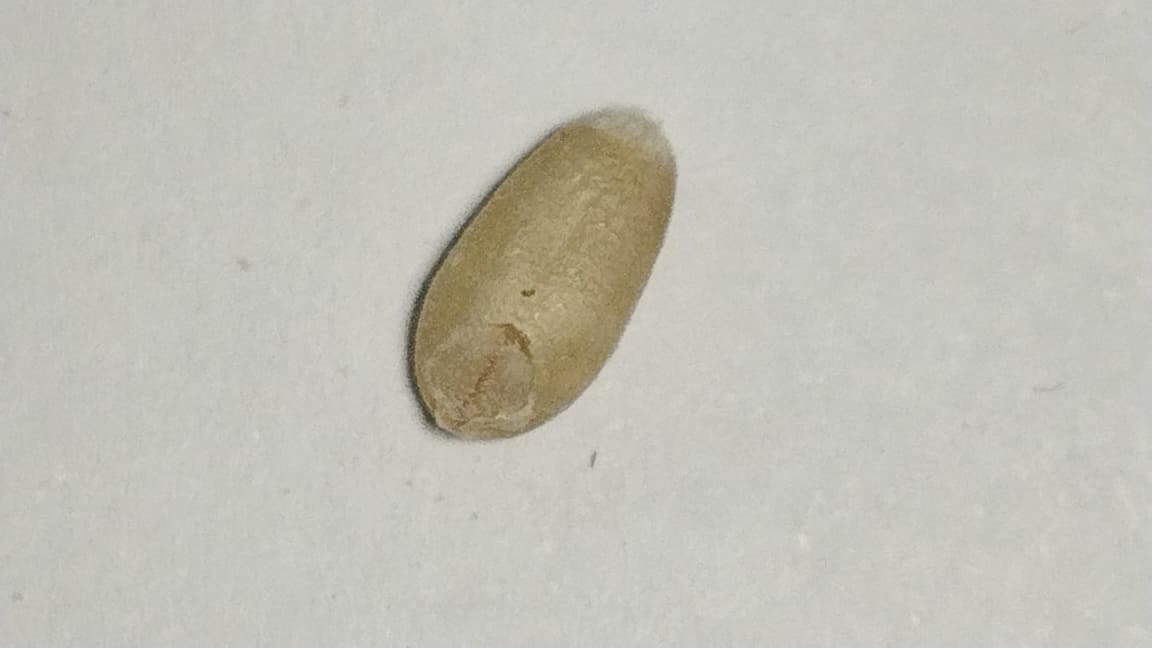damage: (413, 104, 672, 435)
insectdamage: (411, 309, 552, 440)
